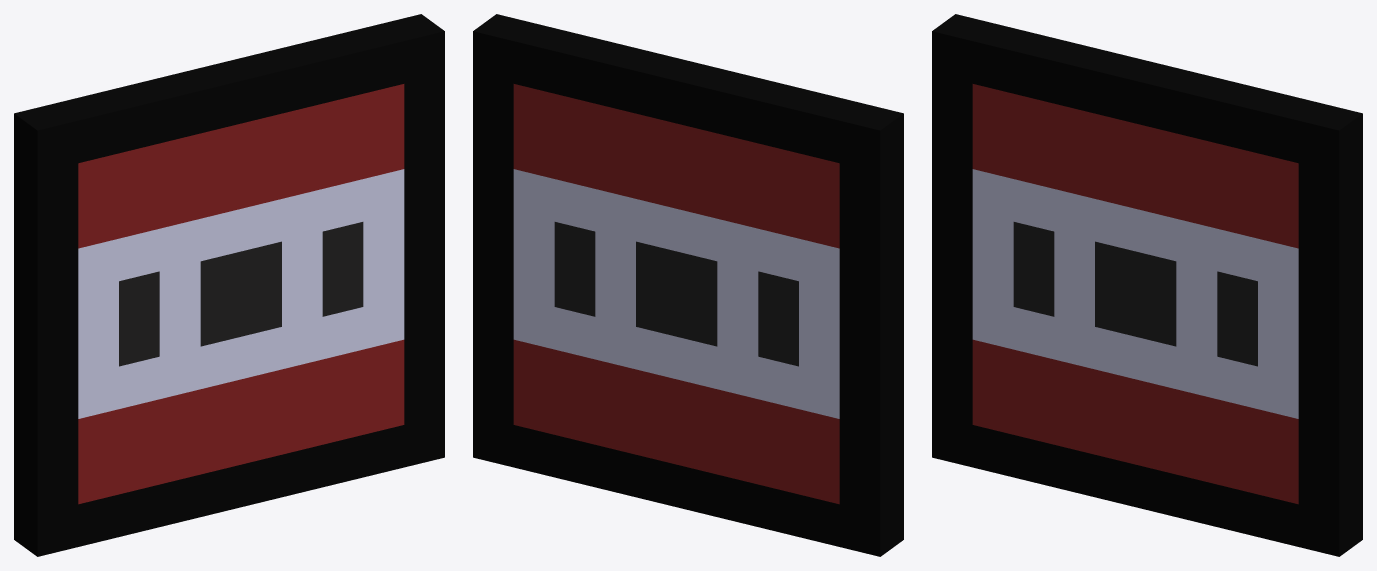
The model's file is Red Paintball Explosive Item.glb.
3 renders of one model, left to right at view 1: azimuth 30°, elevation 25°; view 2: azimuth 150°, elevation 25°; view 3: azimuth 330°, elevation 25°, orthographic.
Visible parts, largest first — view 1: generated; view 2: generated; view 3: generated.
Boxes of the visible parts, bbox=[...] form: generated: bbox=[14, 14, 444, 556]; generated: bbox=[473, 14, 903, 556]; generated: bbox=[932, 14, 1362, 556].
Bounding box in the file's own units: 10 × 10 × 1.
Materials: 1 (1 with a texture image).
